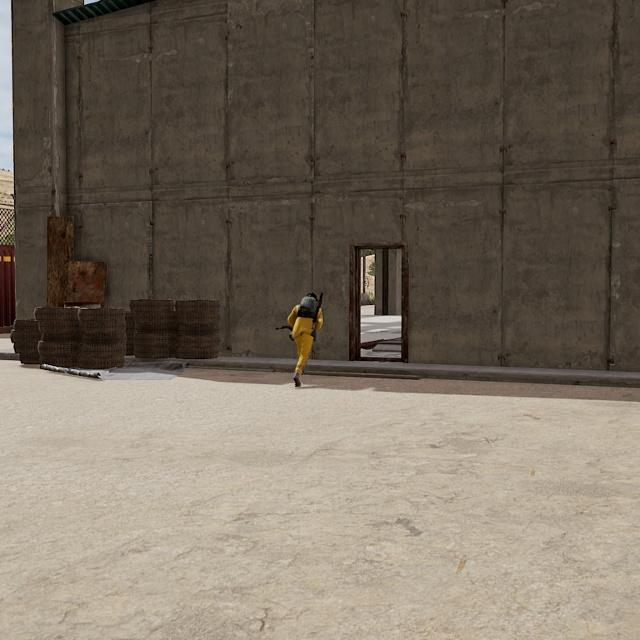head: (303, 291, 321, 304)
people: (284, 289, 324, 391)
